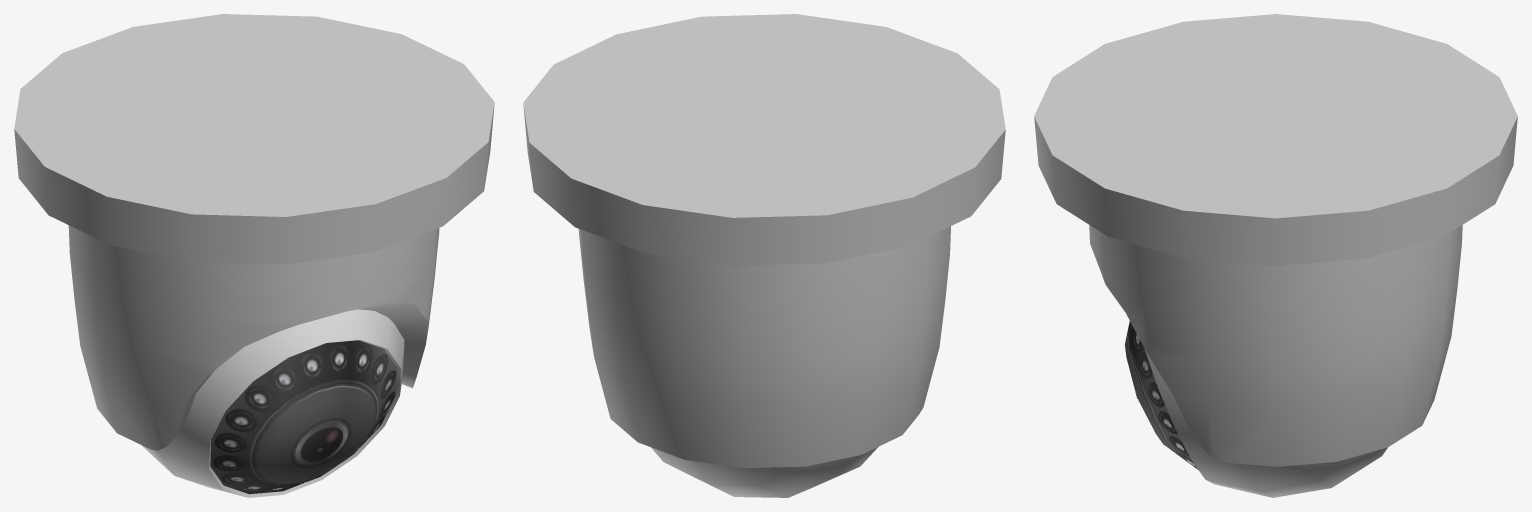
Rendered from cctv.gltf.
3 views of the same model, side by side, from view 1: azimuth 30°, elevation 25°; view 2: azimuth 150°, elevation 25°; view 3: azimuth 270°, elevation 25° (orthographic).
Parts seen in each view (by area): view 1: Object_3, Object_2, Object_4; view 2: Object_3, Object_4; view 3: Object_3, Object_4, Object_2.
Part boxes in pixels (x1,y1,x2,y2): Object_3: (14,14,494,450); Object_2: (210,340,397,494); Object_4: (141,309,404,497); Object_3: (523,14,1005,468); Object_4: (651,447,877,497); Object_3: (1034,14,1517,466); Object_4: (1144,348,1387,497); Object_2: (1124,321,1197,469).
Size of the model in its own units: 0.28 by 0.2348 by 0.28.
Materials: 2 (1 with a texture image).
